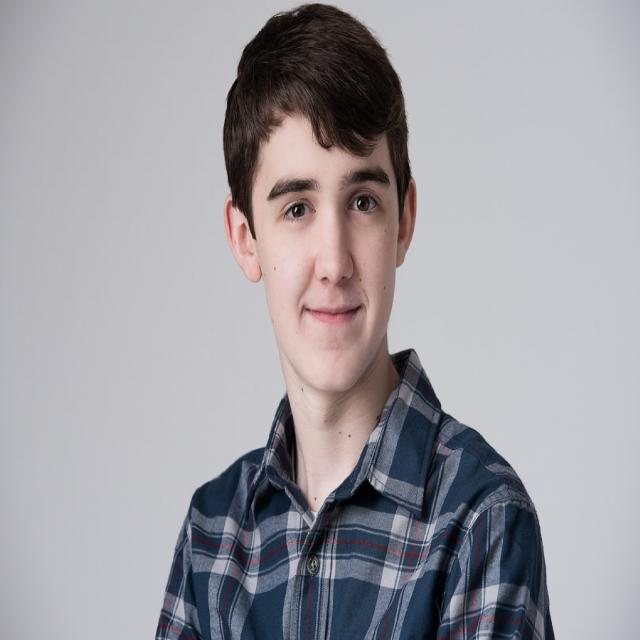nothing: (212, 0, 430, 224)
